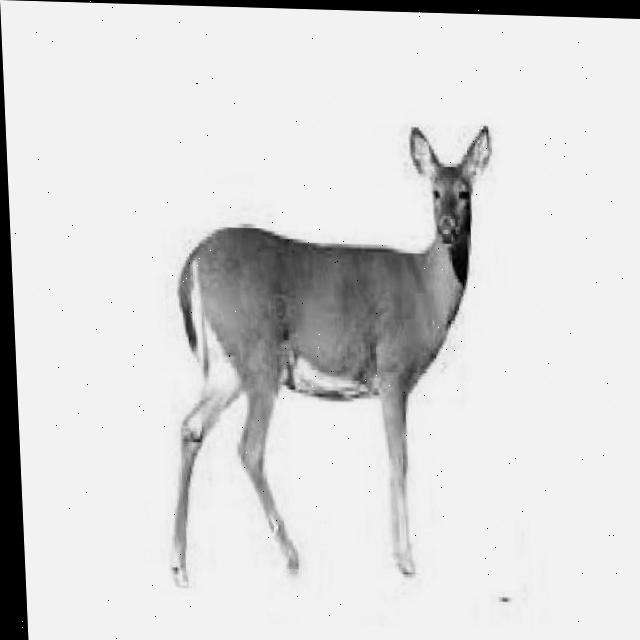Deer: (145, 101, 522, 600)
